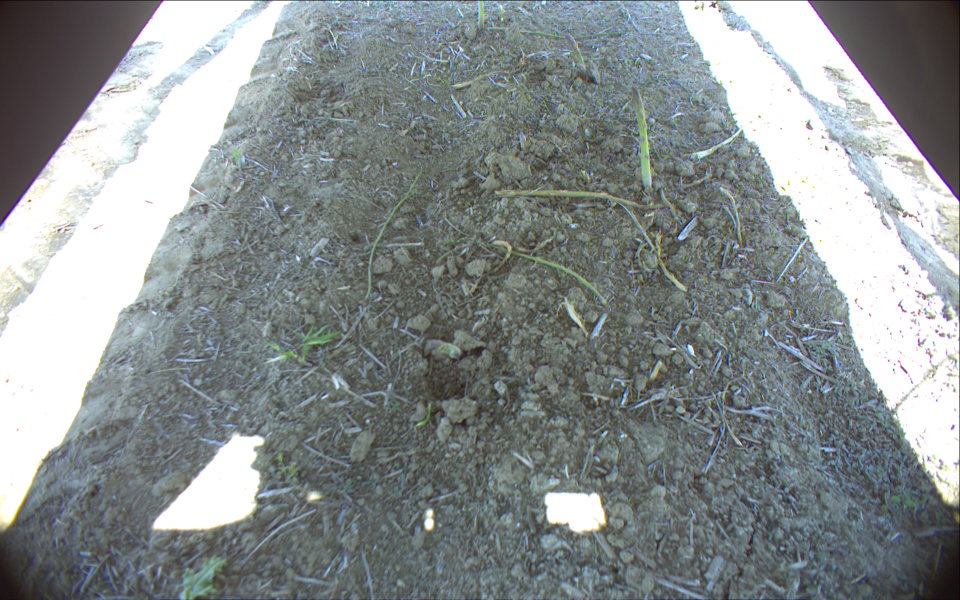aspa: (446, 240, 608, 306), (366, 166, 424, 305), (494, 188, 675, 210), (629, 85, 654, 191), (486, 26, 617, 40), (563, 30, 587, 71), (476, 1, 486, 29)
